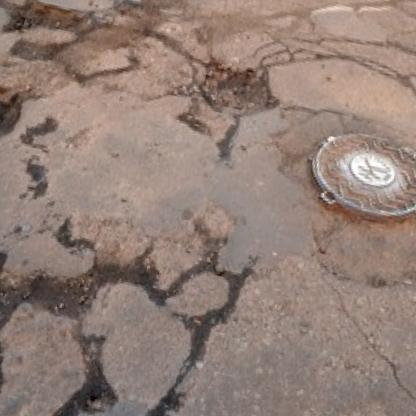pothole: (194, 51, 289, 127), (3, 0, 85, 45), (0, 48, 30, 151)
